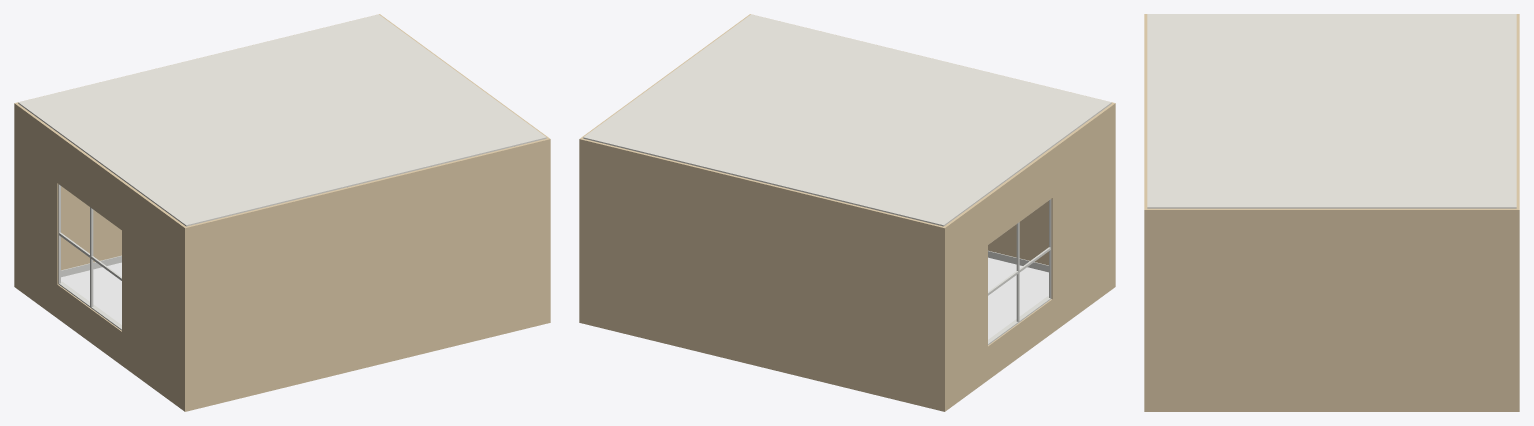
The model's file is room.glb.
The picture shows the model from 3 angles, left to right: view 1: azimuth 30°, elevation 25°; view 2: azimuth 150°, elevation 25°; view 3: azimuth 270°, elevation 25°; orthographic projection. The views are drawn at different scales.
Visible parts, largest first — view 1: room.001; view 2: room.001; view 3: room.001.
Part boxes in pixels (box(x1,y1,x2,y2)): room.001: box(14, 14, 550, 411); room.001: box(579, 14, 1115, 411); room.001: box(1144, 14, 1519, 411).
Size of the model in its own units: 2940 by 1426 by 2380.
